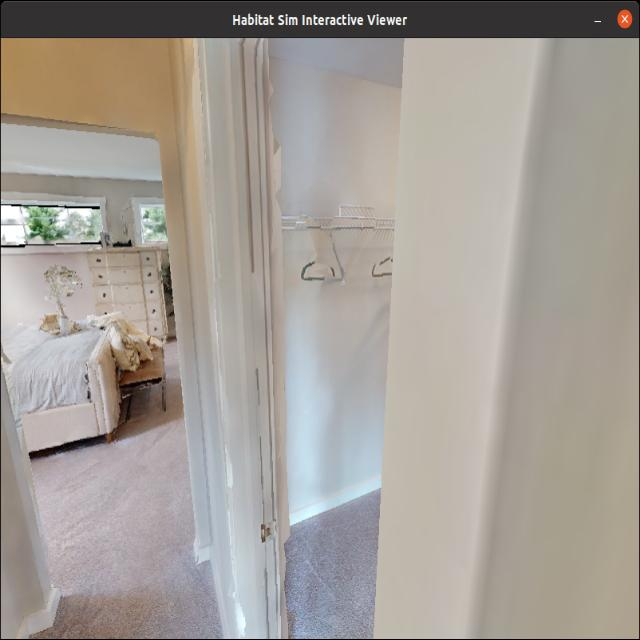bed: (0, 276, 131, 467)
door-frame: (229, 37, 418, 636), (1, 94, 198, 610)
